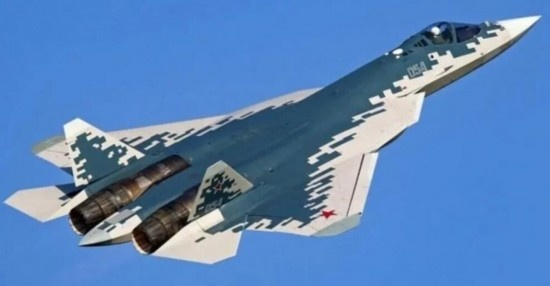airplane: (2, 13, 545, 265)
